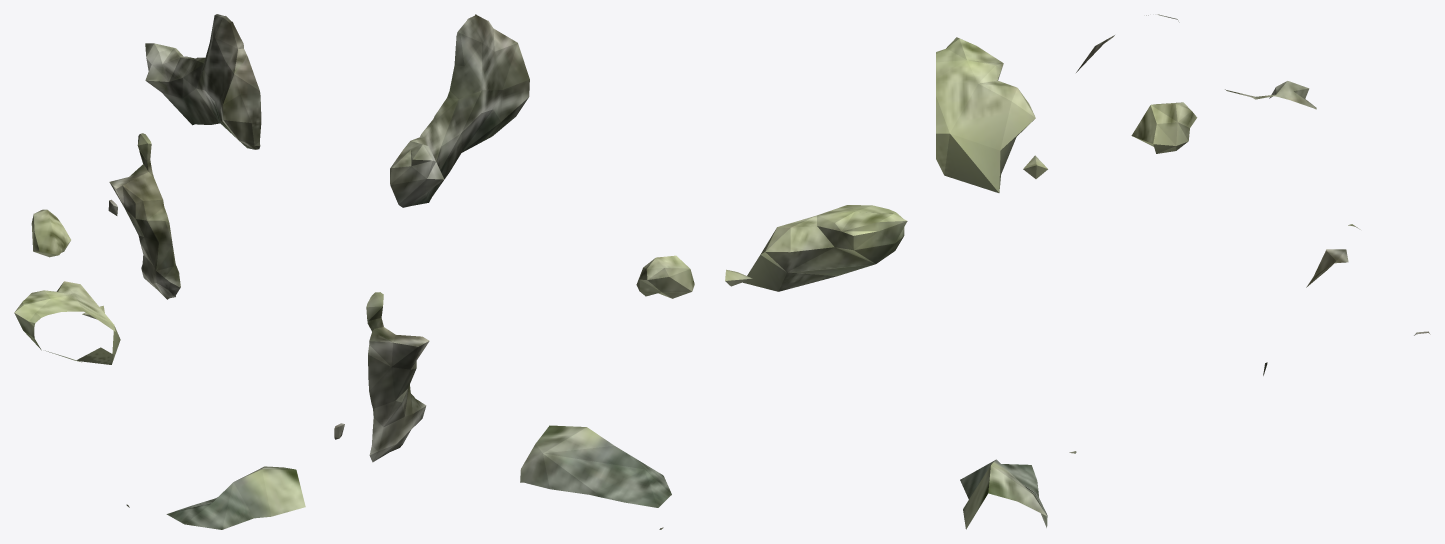
The picture shows the model from 3 angles, left to right: view 1: azimuth 30°, elevation 25°; view 2: azimuth 150°, elevation 25°; view 3: azimuth 270°, elevation 25°; orthographic projection. The views are drawn at different scales.
Bounding box in the file's own units: 3.14 × 4.4 × 3.82.
Materials: 1 (1 with a texture image).
